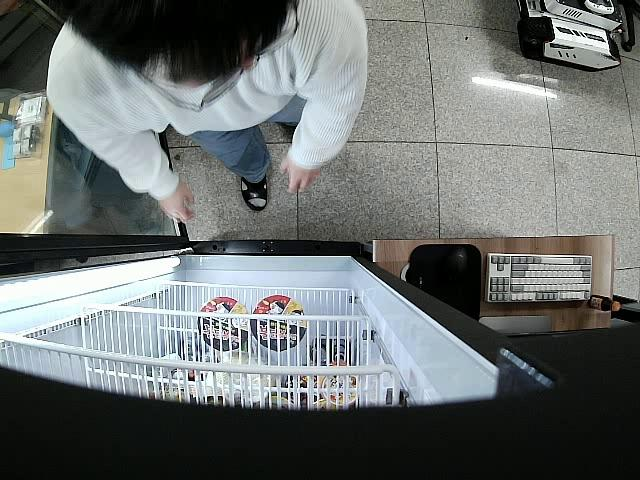00_hand: (158, 181, 196, 225), (279, 154, 320, 194)
